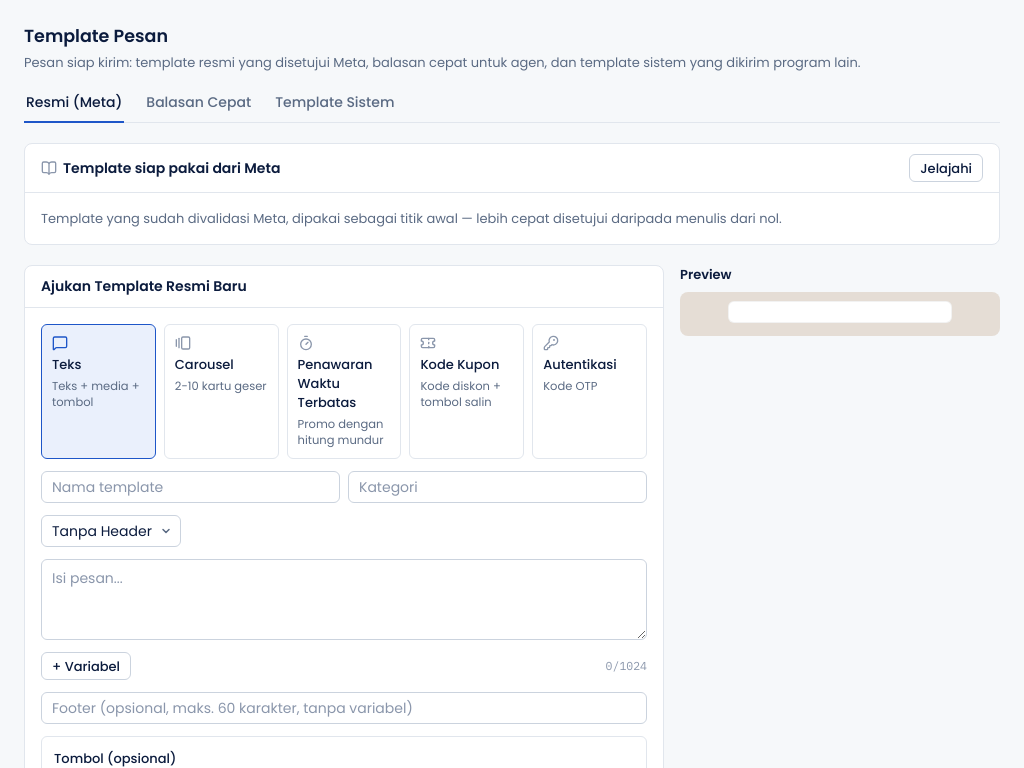
TemplatesPage — live preview › reflects a TEXT header typed into the form
This screenshot has width=1024, height=768.
Expected: the element named "Format template" is shown, [41,324,647,459]
Step 1. Select "Teks" in the dropdown named "Tipe header" → (111, 531), box [41,515,181,547]
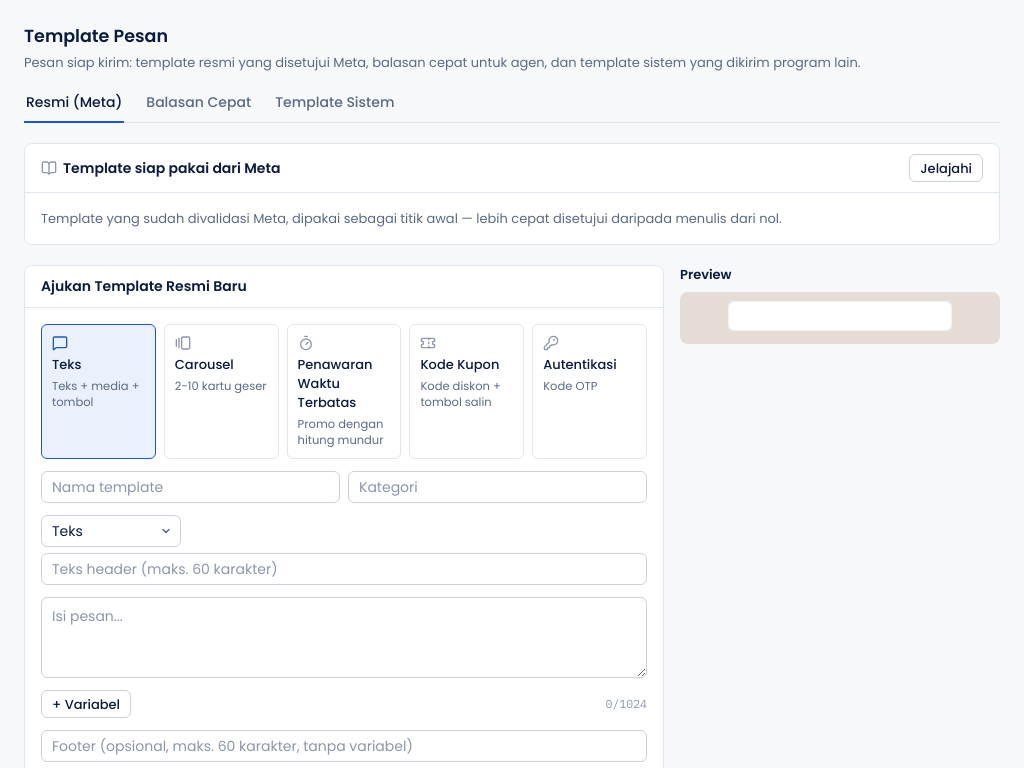
Step 2. Type "Selamat Datang" into the field labelled "Teks header" → (344, 569), box [41,553,647,585]
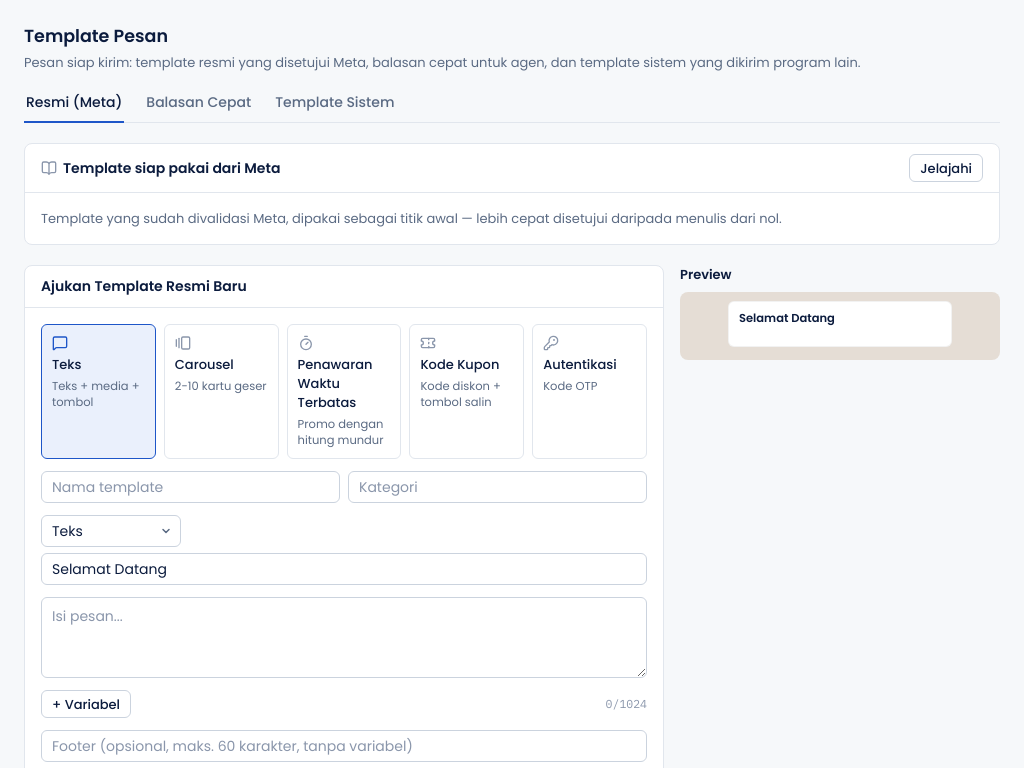
Now the text "Selamat Datang" is shown, box [739,310,835,326]
